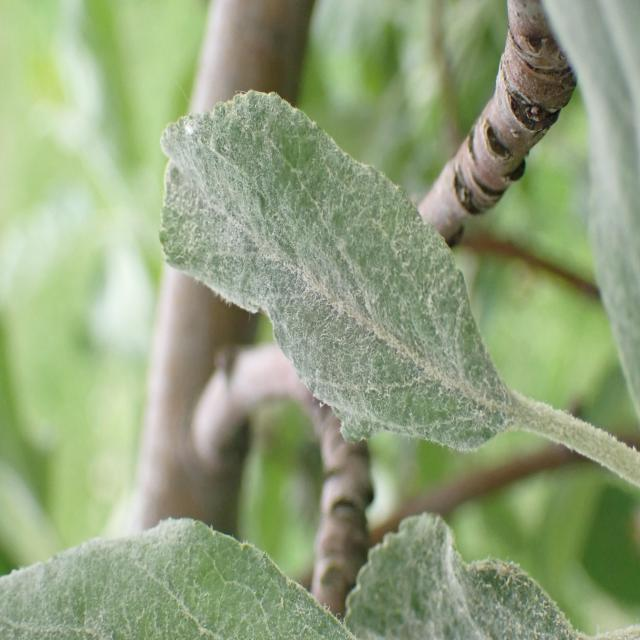Powdery_mildew: (142, 84, 524, 457), (0, 510, 364, 640), (540, 0, 640, 424), (354, 509, 590, 640)
